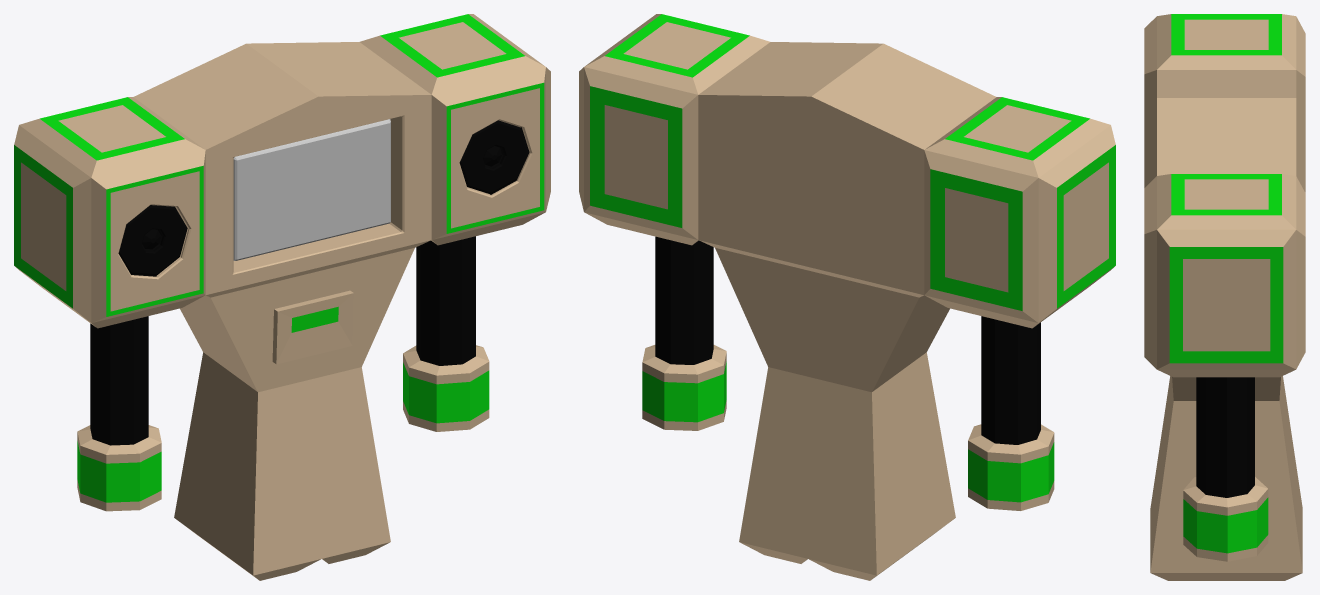
File: robo_mk2.fbx
The picture shows the model from 3 angles, left to right: view 1: azimuth 30°, elevation 25°; view 2: azimuth 150°, elevation 25°; view 3: azimuth 270°, elevation 25°; orthographic projection. The views are drawn at different scales.
Parts seen in each view (by area): view 1: Robo_MKII; view 2: Robo_MKII; view 3: Robo_MKII.
Boxes of the visible parts, box(x1,y1,x2,y2) form: Robo_MKII: box(14, 14, 550, 580); Robo_MKII: box(579, 14, 1115, 580); Robo_MKII: box(1144, 14, 1305, 580).
Size of the model in its own units: 275 by 262 by 83.71.
